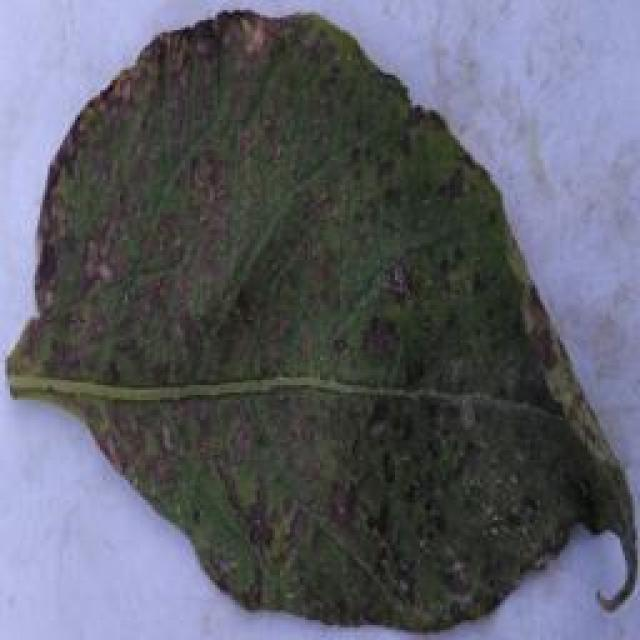Potato_Early_Blight: (7, 9, 637, 638)
